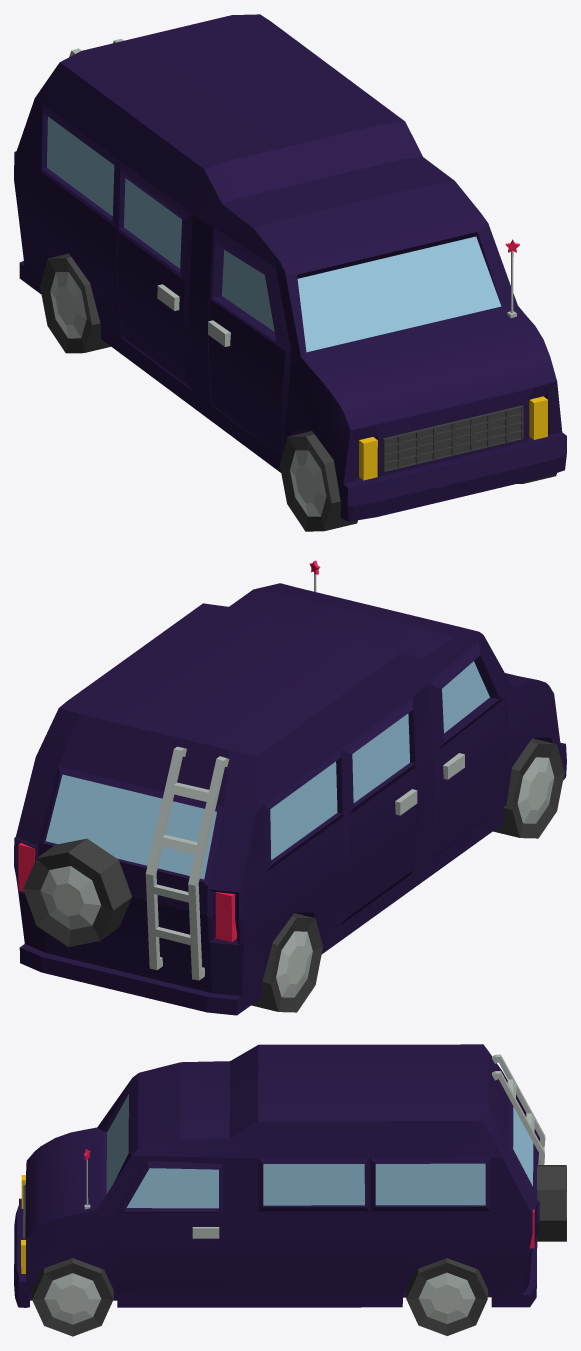
The model's file is VanShop.fbx.
3 views of the same model, one above another, from view 1: azimuth 30°, elevation 25°; view 2: azimuth 150°, elevation 25°; view 3: azimuth 270°, elevation 25° (orthographic). The views are drawn at different scales.
Parts seen in each view (by area): view 1: Van, VanWindows, Frontgrill, FrontWheels, RearWheels, Wheelsfront_Hubcap, Wheelsback_Hubcap, HeadLights, Handles; view 2: Van, VanWindows, RearLadder, Sparewheel, FrontWheels, RearWheels, Sparewheel_Hubcap, Wheelsfront_Hubcap, Wheelsback_Hubcap, TailLights, Handles; view 3: Van, VanWindows, FrontWheels, RearWheels, Sparewheel, Wheelsfront_Hubcap, Wheelsback_Hubcap, RearLadder.
Boxes of the visible parts, bbox=[...] form: Van: bbox=[14, 14, 566, 521]; VanWindows: bbox=[47, 116, 501, 352]; Frontgrill: bbox=[383, 405, 523, 471]; FrontWheels: bbox=[279, 431, 556, 531]; RearWheels: bbox=[40, 253, 110, 353]; Wheelsfront_Hubcap: bbox=[290, 450, 326, 516]; Wheelsback_Hubcap: bbox=[50, 272, 86, 338]; HeadLights: bbox=[359, 396, 547, 480]; Handles: bbox=[157, 284, 230, 346]; Van: bbox=[14, 583, 566, 1015]; VanWindows: bbox=[45, 661, 489, 879]; RearLadder: bbox=[145, 746, 229, 980]; Sparewheel: bbox=[23, 838, 131, 946]; FrontWheels: bbox=[493, 738, 564, 838]; RearWheels: bbox=[251, 913, 323, 1012]; Sparewheel_Hubcap: bbox=[40, 866, 101, 929]; Wheelsfront_Hubcap: bbox=[517, 757, 554, 823]; Wheelsback_Hubcap: bbox=[276, 931, 312, 997]; TailLights: bbox=[18, 843, 236, 941]; Handles: bbox=[395, 753, 464, 815]; Van: bbox=[14, 1044, 539, 1307]; VanWindows: bbox=[106, 1094, 533, 1208]; FrontWheels: bbox=[32, 1258, 113, 1336]; RearWheels: bbox=[406, 1258, 487, 1335]; Sparewheel: bbox=[537, 1165, 566, 1241]; Wheelsfront_Hubcap: bbox=[44, 1273, 101, 1324]; Wheelsback_Hubcap: bbox=[418, 1272, 475, 1323]; RearLadder: bbox=[492, 1054, 545, 1164].
Bounding box in the file's own units: 672 × 732 × 1718.
